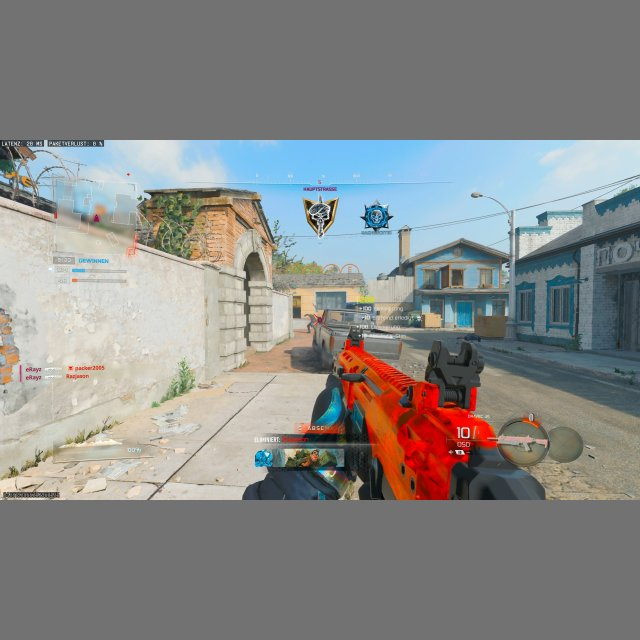player: (306, 312, 320, 333)
